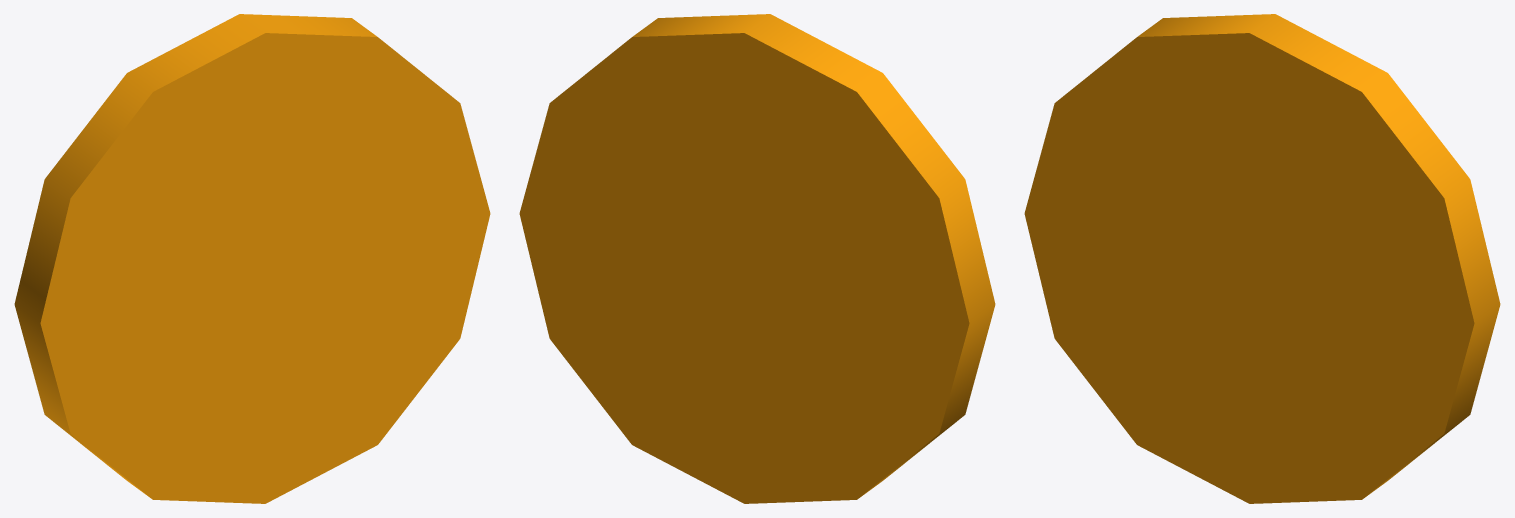
File: Coin.DAE
The picture shows the model from 3 angles, left to right: view 1: azimuth 30°, elevation 25°; view 2: azimuth 150°, elevation 25°; view 3: azimuth 330°, elevation 25°; orthographic projection.
Parts seen in each view (by area): view 1: Coin; view 2: Coin; view 3: Coin.
Boxes of the visible parts, left/top/right/bottom form: Coin: left=14, top=14, right=490, bottom=503; Coin: left=519, top=14, right=995, bottom=503; Coin: left=1024, top=14, right=1500, bottom=503.
Size of the model in its own units: 0.5788 by 0.5788 by 0.0579.
